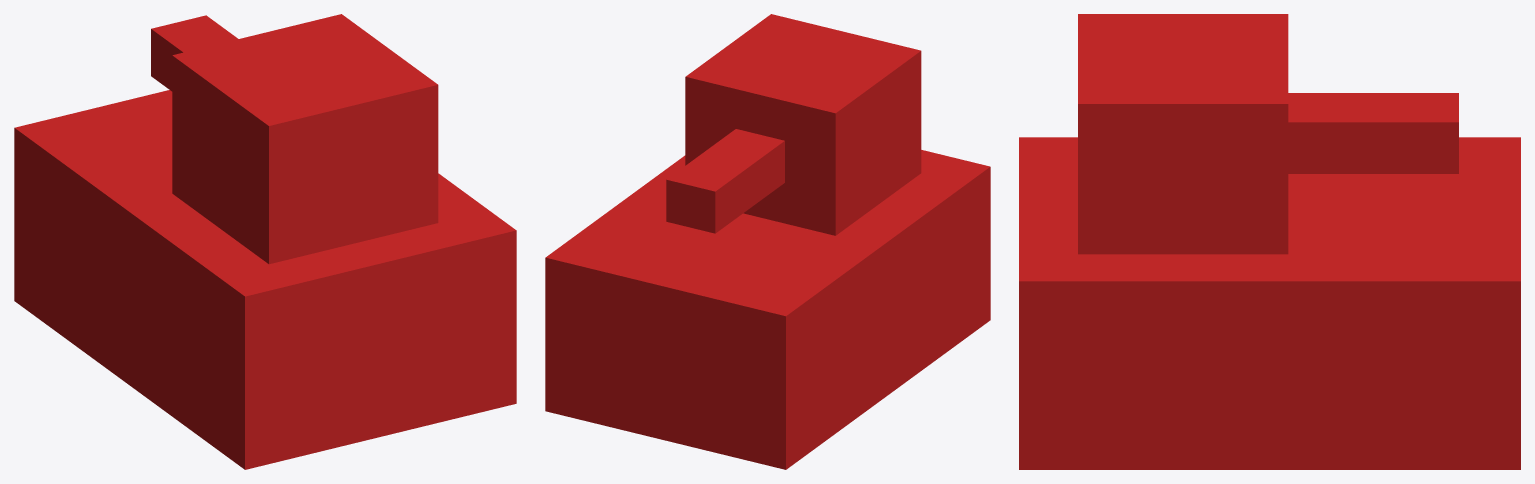
The model's file is test_tank.fbx.
3 views of the same model, side by side, from view 1: azimuth 30°, elevation 25°; view 2: azimuth 150°, elevation 25°; view 3: azimuth 270°, elevation 25° (orthographic). The views are drawn at different scales.
Parts seen in each view (by area): view 1: Cube.002; view 2: Cube.002; view 3: Cube.002.
Part boxes in pixels (x1=…): Cube.002: x1=14, y1=14, x2=516, y2=469; Cube.002: x1=545, y1=14, x2=990, y2=469; Cube.002: x1=1019, y1=14, x2=1520, y2=469.
Bounding box in the file's own units: 136 × 149 × 200.
3 materials, 3 textured.
